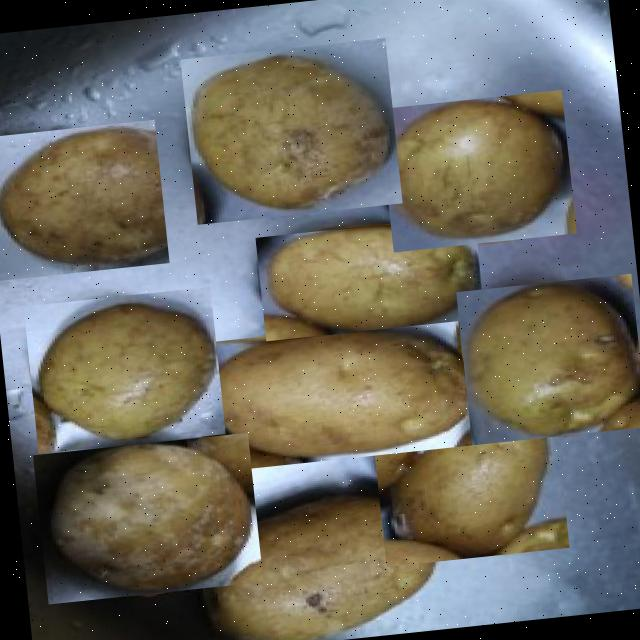Damaged potato: (180, 36, 402, 224), (195, 481, 448, 640), (32, 431, 262, 603), (0, 118, 169, 280)
Potato: (192, 313, 484, 472), (23, 286, 225, 452), (371, 403, 569, 565), (378, 88, 576, 250), (455, 272, 640, 444), (255, 213, 484, 339)
